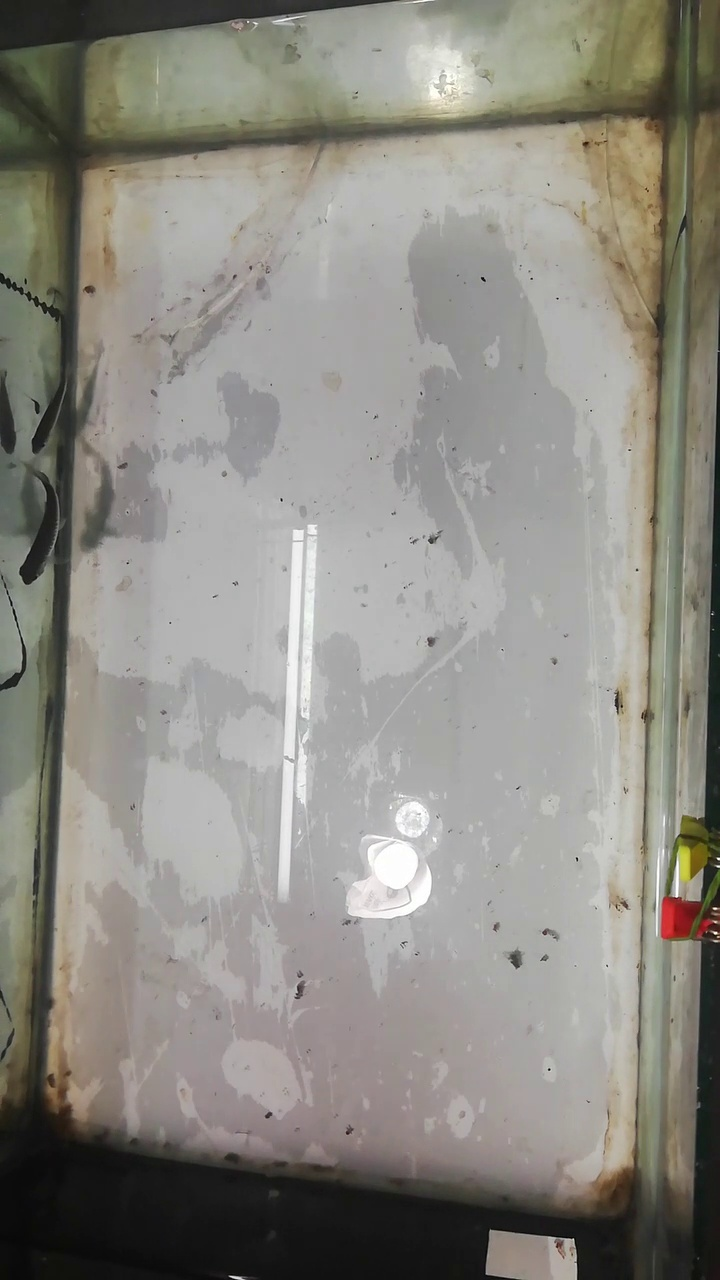fish1: (20, 468, 60, 589), (78, 456, 112, 567)
fish2: (31, 361, 68, 460), (73, 352, 99, 450)
